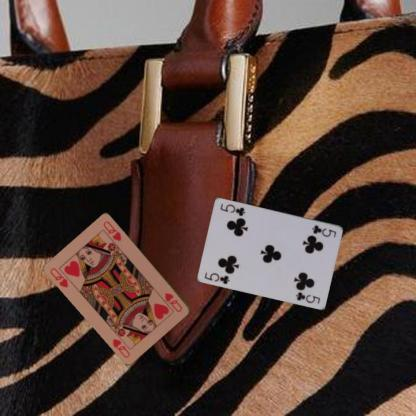5c: (202, 270, 231, 286), (310, 222, 337, 238)
Qh: (48, 265, 70, 289), (162, 290, 184, 313)
